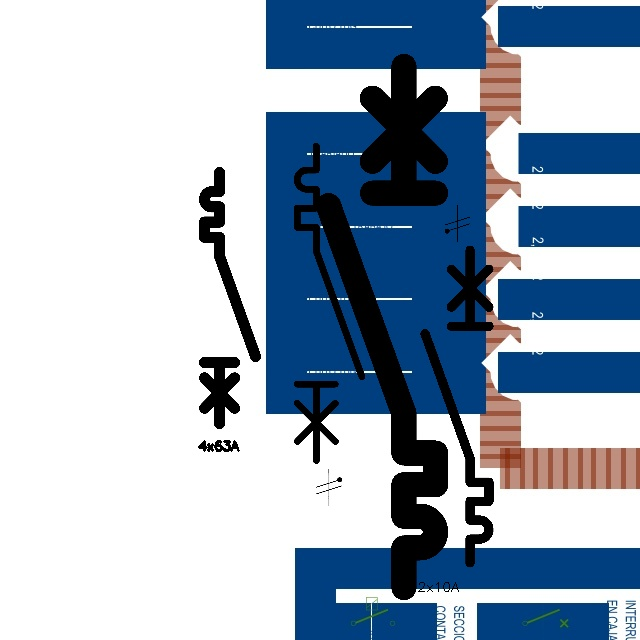interruptor_termomagnetico: (315, 53, 449, 601), (289, 138, 370, 468), (417, 242, 497, 570), (198, 166, 262, 430)
